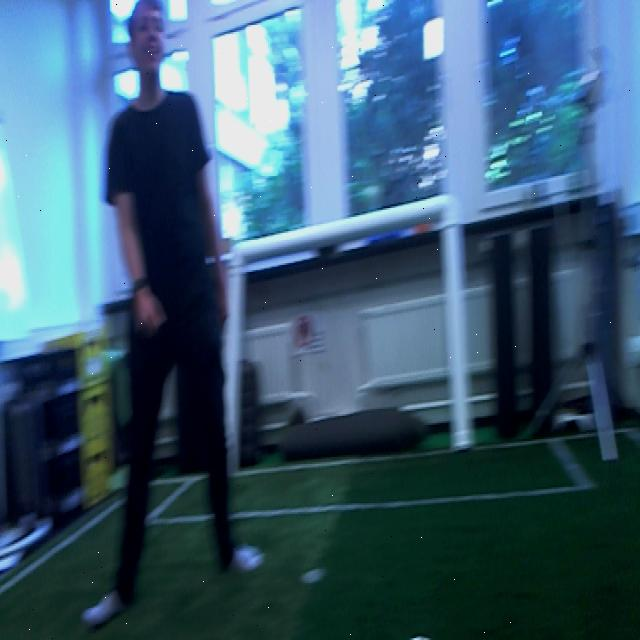goalpost: (439, 183, 476, 450), (214, 237, 246, 471)
